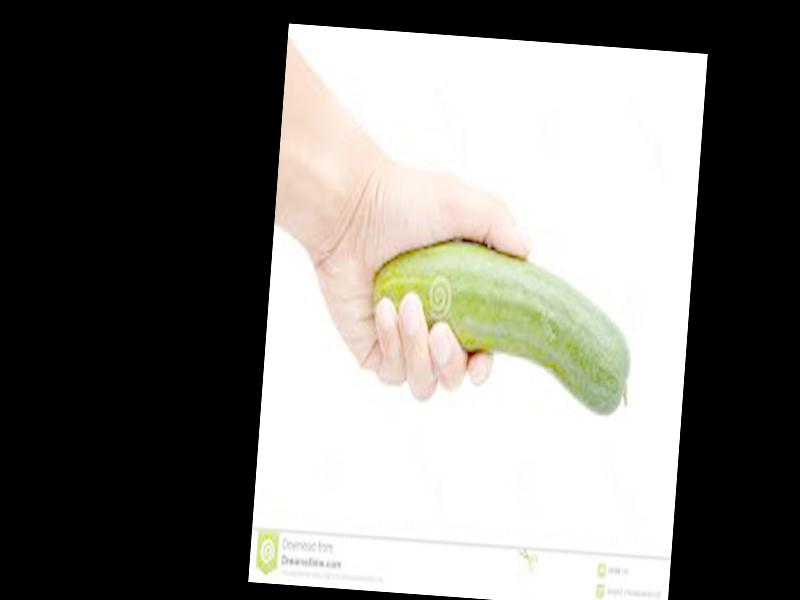Cucumber: (365, 239, 639, 417)
